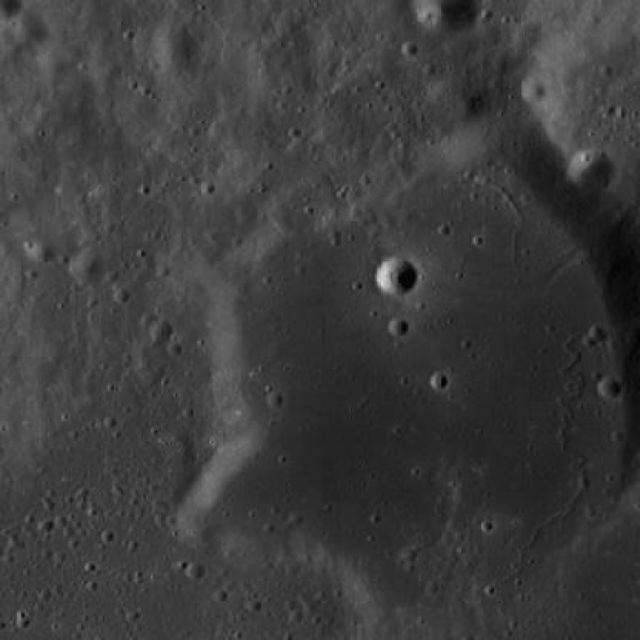crater: (196, 436, 327, 562), (266, 166, 340, 237), (176, 498, 232, 551), (150, 24, 201, 72), (567, 146, 615, 192), (416, 0, 479, 35), (377, 258, 417, 296), (12, 10, 50, 46), (70, 248, 106, 282), (0, 126, 26, 165), (454, 91, 484, 120), (512, 22, 540, 48), (521, 76, 547, 102), (598, 378, 622, 400), (32, 240, 54, 263), (151, 322, 172, 342), (388, 318, 408, 337), (430, 370, 448, 390), (588, 324, 607, 341), (400, 40, 418, 56), (187, 562, 204, 578), (0, 0, 2, 2), (1, 0, 2, 1)
